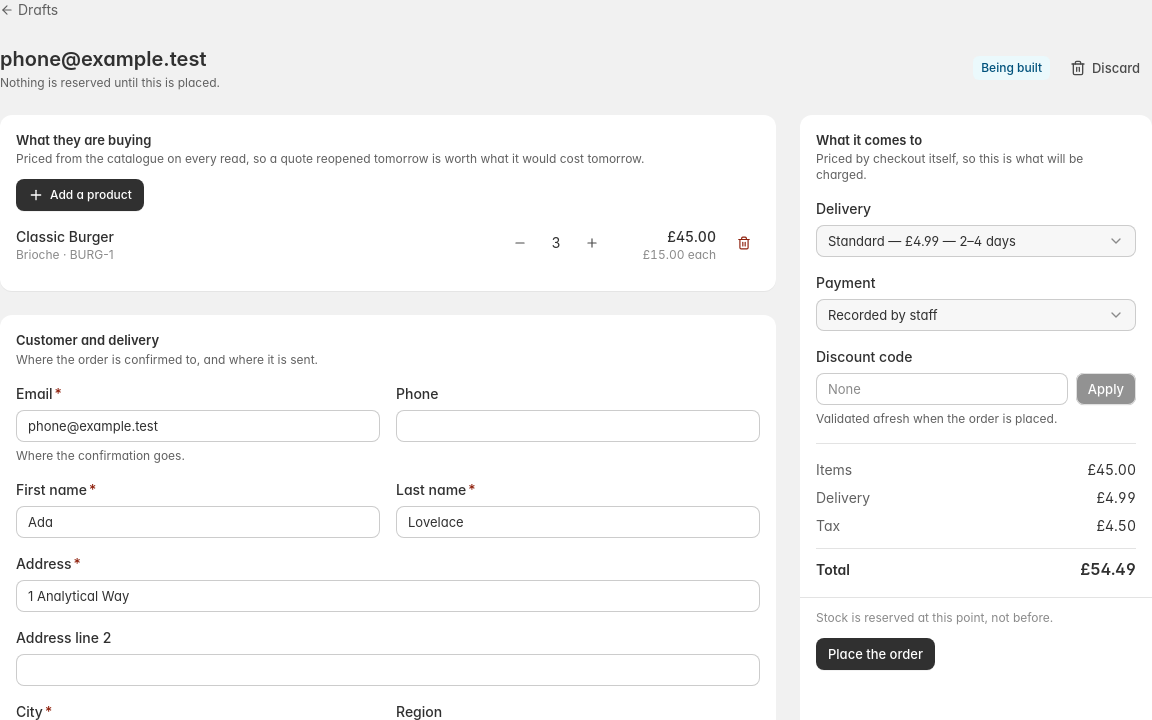
it: DraftBuilderPage › places the order and goes to it
Click the button "Place the order".
click(876, 654)  # box x1=816 y1=638 x2=935 y2=670
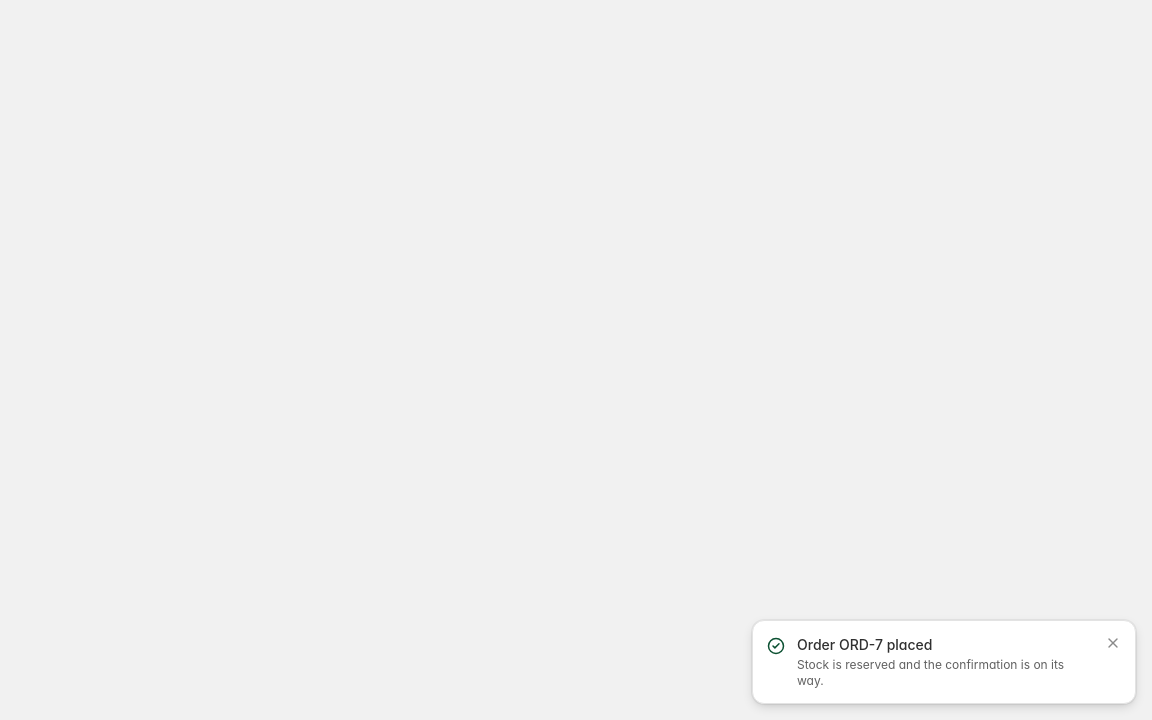
Expected: the text "Order ORD-7 placed" is shown, x1=797 y1=636 x2=932 y2=653
